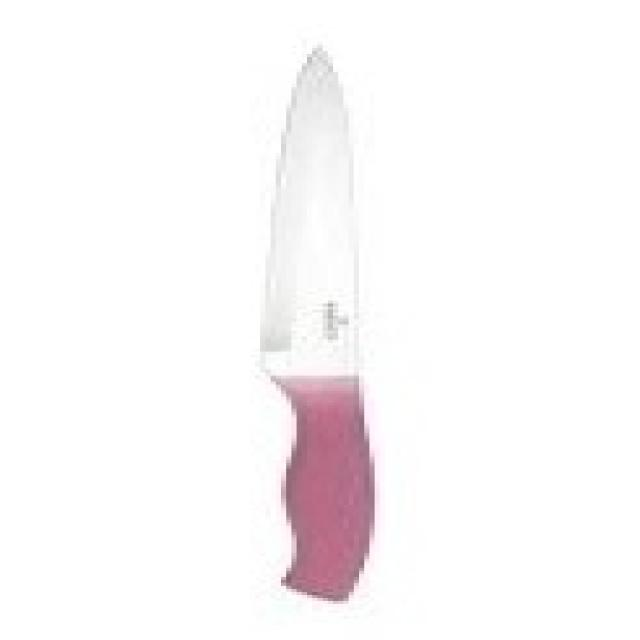knife: (222, 39, 392, 617)
